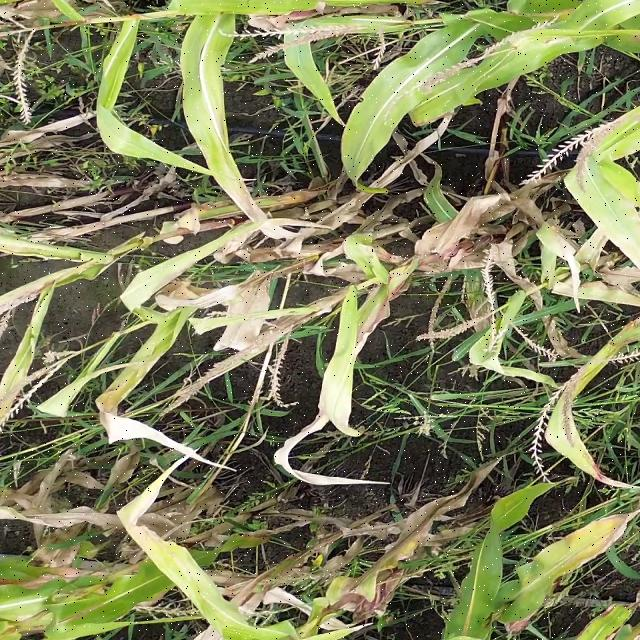northern-leaf-blight: (117, 468, 243, 585), (530, 500, 632, 585)
